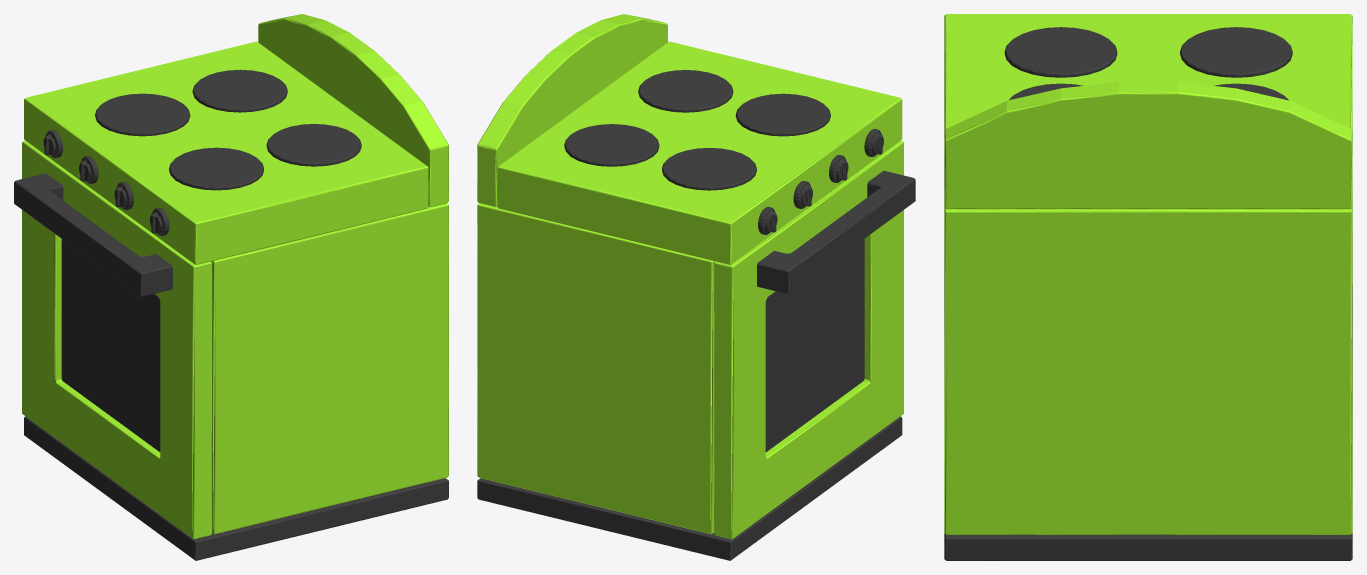
The model's file is kompor.obj.
3 views of the same model, side by side, from view 1: azimuth 30°, elevation 25°; view 2: azimuth 150°, elevation 25°; view 3: azimuth 270°, elevation 25° (orthographic). The views are drawn at different scales.
Parts seen in each view (by area): view 1: Stove_Cube.076; view 2: Stove_Cube.076; view 3: Stove_Cube.076.
Boxes of the visible parts, x1=… form: Stove_Cube.076: x1=14, y1=14, x2=448, y2=560; Stove_Cube.076: x1=477, y1=14, x2=915, y2=560; Stove_Cube.076: x1=944, y1=14, x2=1352, y2=560.
Bounding box in the file's own units: 2.12 × 2.77 × 2.19.
